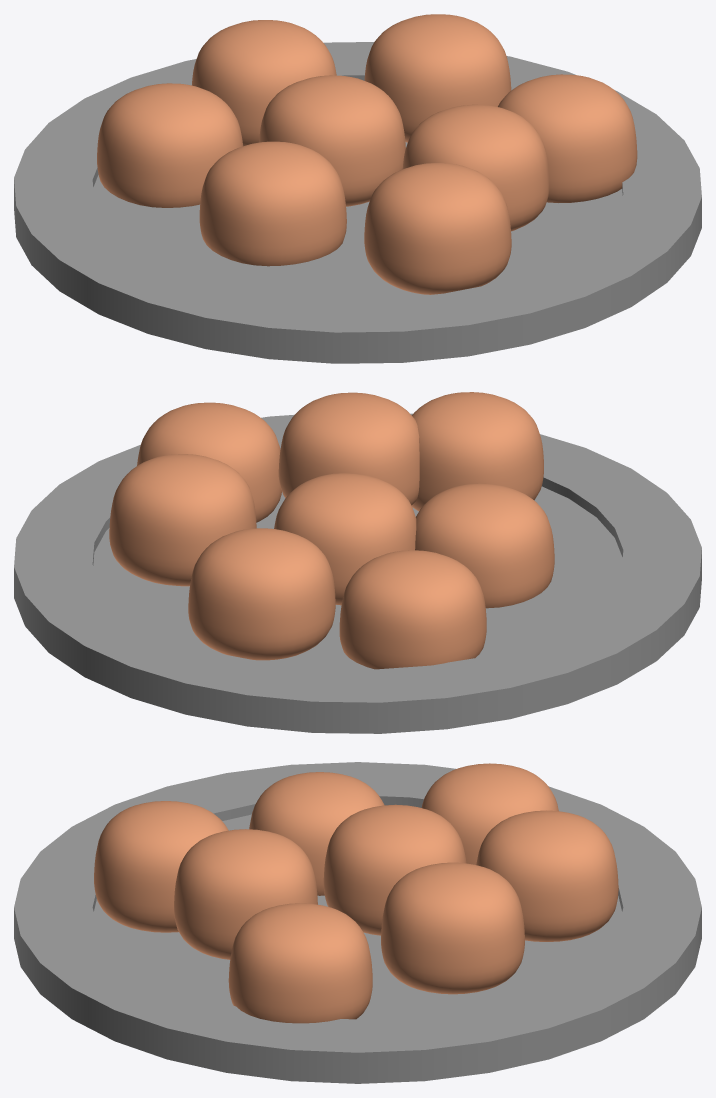
Rendered from bread-BCW7Gsl9.glb.
The picture shows the model from 3 angles, top to bottom: view 1: azimuth 30°, elevation 25°; view 2: azimuth 150°, elevation 25°; view 3: azimuth 270°, elevation 25°; orthographic projection.
Visible parts, largest first — view 1: Cylinder, bread3, bread4, bread4.001, bread6, bread7, bread2, bread8, bread; view 2: Cylinder, bread, bread4.001, bread6, bread4, bread3, bread8, bread2, bread7; view 3: Cylinder, bread6, bread7, bread, bread8, bread3, bread2, bread4, bread4.001.
Part boxes in pixels (<box>): Cylinder: <box>14,42,701,363</box>; bread3: <box>364,163,511,294</box>; bread4: <box>199,141,346,266</box>; bread4.001: <box>97,83,242,207</box>; bread6: <box>364,14,511,142</box>; bread7: <box>498,74,637,202</box>; bread2: <box>259,75,405,206</box>; bread8: <box>402,104,549,231</box>; bread: <box>192,20,336,146</box>; Cylinder: <box>14,413,701,733</box>; bread: <box>188,528,335,660</box>; bread4.001: <box>339,550,486,669</box>; bread6: <box>109,454,256,586</box>; bread4: <box>415,483,554,608</box>; bread3: <box>411,392,543,511</box>; bread8: <box>278,392,419,505</box>; bread2: <box>274,473,416,605</box>; bread7: <box>137,402,281,522</box>; Cylinder: <box>14,762,701,1083</box>; bread6: <box>381,862,524,994</box>; bread7: <box>228,903,372,1023</box>; bread: <box>476,810,618,941</box>; bread8: <box>174,829,317,959</box>; bread3: <box>94,801,228,932</box>; bread2: <box>323,804,466,935</box>; bread4: <box>249,772,384,895</box>; bread4.001: <box>421,763,558,864</box>.
Size of the model in its own units: 1.2 by 0.2961 by 1.2.
